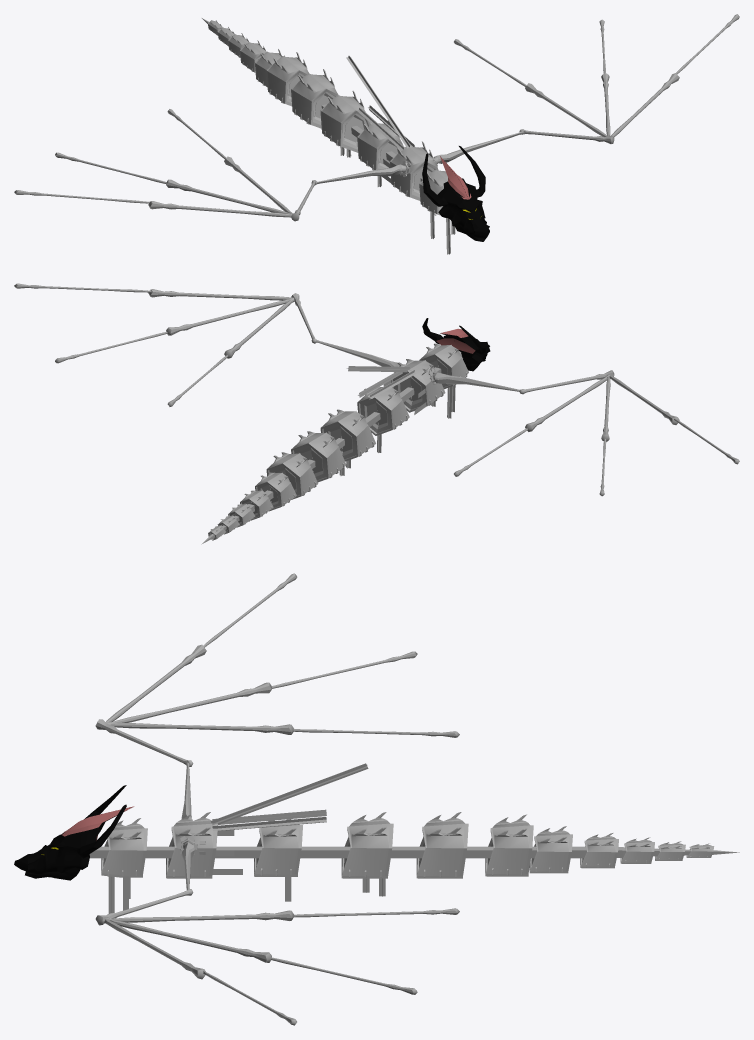
Rendered from Dragon.fbx.
3 views of the same model, one above another, from view 1: azimuth 30°, elevation 25°; view 2: azimuth 150°, elevation 25°; view 3: azimuth 270°, elevation 25° (orthographic). The views are drawn at different scales.
Visible parts, largest first — view 1: group31, group24, group25, group22, group23, pCylinder2, pCube24 (×2), group21, pCube16 (×2), pCube27, group27, group26 (+4 smaller); view 2: group24, group23, group25, group22, group21, group31, pCube16 (×2), pCylinder2, group26, pCube13, pCube24, pCube27 (+2 smaller); view 3: group31, pCube13, group24, group25, group21, group23, group22, pCylinder1, pCube28 (×2), pCube27 (×2), group26, group27 (+2 smaller).
Boxes of the visible parts, box(x1,y1,x2,y2) form: group31: box(422, 146, 489, 241); group24: box(320, 90, 370, 152); group25: box(291, 69, 338, 128); group22: box(389, 141, 438, 200); group23: box(357, 120, 403, 186); pCylinder2: box(266, 56, 299, 106); pCube24 (×2): box(148, 73, 679, 217); group21: box(419, 169, 455, 254); pCube16 (×2): box(315, 131, 523, 184); pCube27: box(166, 179, 292, 214); group27: box(240, 40, 266, 72); group26: box(255, 49, 284, 87); group24: box(320, 409, 375, 461); group23: box(357, 386, 409, 452); group25: box(291, 431, 346, 482); group22: box(391, 359, 445, 412); group21: box(419, 343, 468, 418); group31: box(422, 318, 490, 371); pCube16 (×2): box(316, 339, 519, 391); pCylinder2: box(282, 453, 318, 499); group26: box(255, 472, 296, 511); pCube13: box(201, 351, 462, 544); pCube24: box(148, 289, 292, 300); pCube27: box(166, 298, 293, 335); group31: box(14, 785, 134, 880); pCube13: box(89, 846, 739, 858); group24: box(341, 812, 393, 878); group25: box(416, 812, 468, 878); group21: box(101, 818, 147, 913); group23: box(254, 819, 302, 901); group22: box(166, 812, 217, 878); pCylinder1: box(485, 825, 533, 876); pCube28 (×2): box(104, 722, 294, 922); pCube27 (×2): box(106, 682, 271, 962); group26: box(529, 826, 572, 873); group27: box(580, 833, 618, 868).
Size of the model in its own units: 157 by 26.05 by 108.
